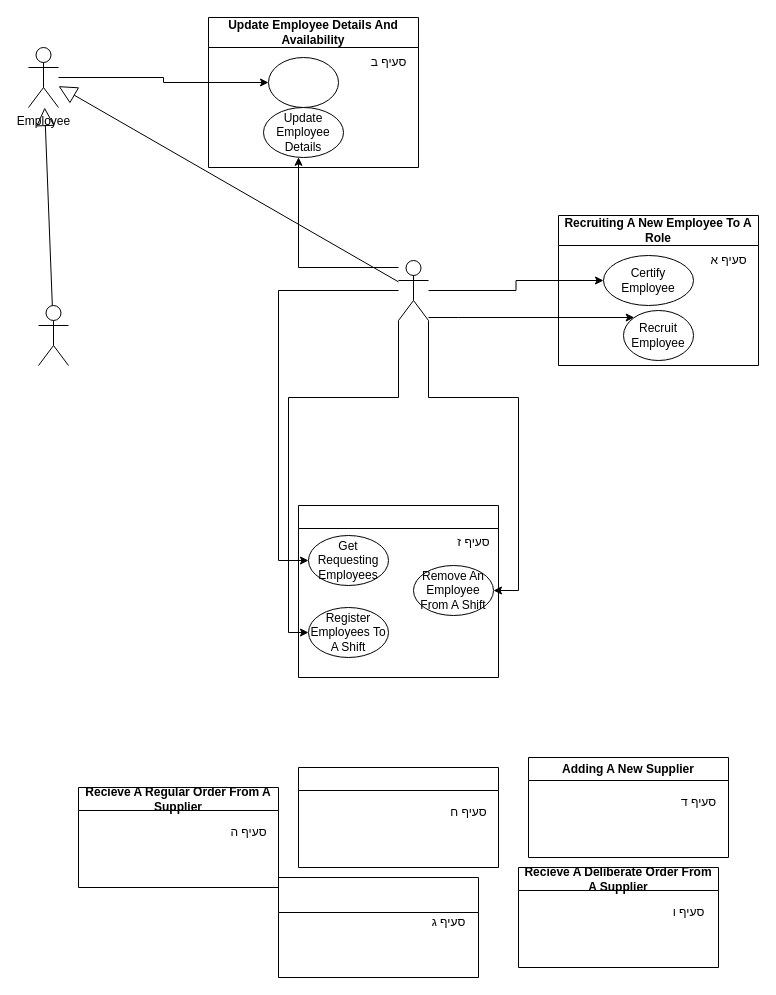
This 776x995 diagram has some shape labels left out. Each missing label, with the box of its shape:
Assigning Employees To Shifts: (298, 504, 498, 678)
Driver: (38, 304, 68, 366)
HR Manager: (398, 260, 428, 320)
Request Shift: (268, 56, 338, 108)
Sending A Transport: (298, 766, 498, 868)
Update Stock And Notify Shortages: (278, 876, 478, 978)
